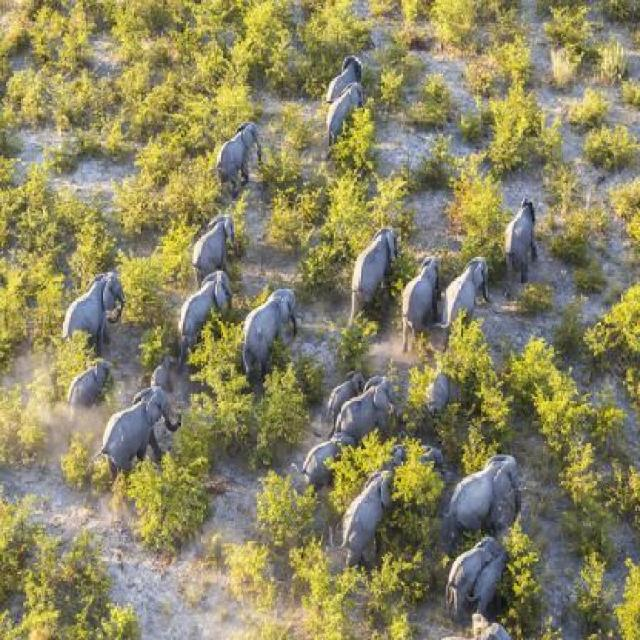elephant: (441, 421, 532, 533), (345, 207, 410, 331), (90, 381, 172, 472), (239, 288, 312, 366), (64, 263, 125, 349), (178, 262, 239, 348), (429, 238, 486, 329), (503, 185, 557, 278), (343, 469, 392, 571), (438, 524, 502, 602), (334, 366, 397, 434), (404, 238, 448, 322), (190, 213, 242, 278), (212, 114, 258, 183), (316, 76, 361, 144), (420, 349, 465, 417), (64, 356, 118, 410), (303, 428, 365, 474), (476, 548, 518, 612), (325, 30, 364, 93), (324, 362, 376, 408), (387, 442, 448, 478), (148, 341, 178, 390)
